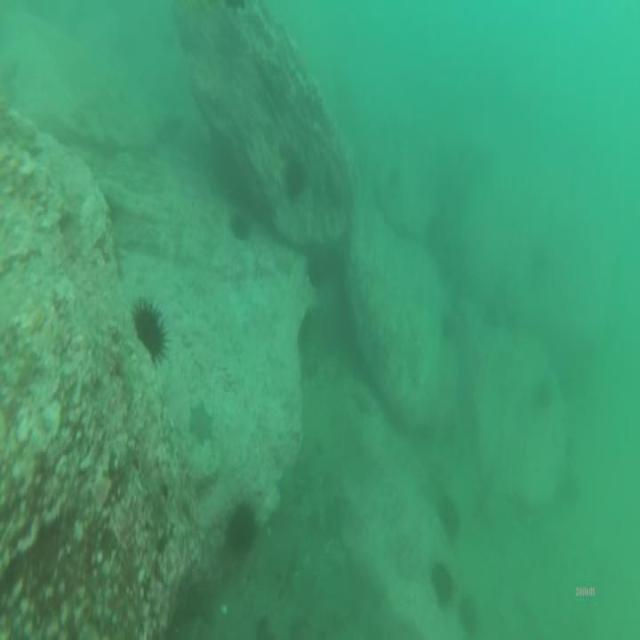echinus: (135, 305, 165, 356), (225, 504, 253, 553), (462, 591, 481, 640), (285, 158, 307, 193), (434, 562, 452, 599), (443, 506, 462, 537), (231, 213, 249, 237)
starfish: (186, 403, 212, 444)
